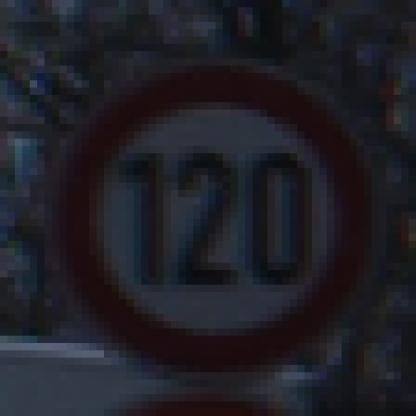Speed Limit 120: (58, 68, 370, 370)
